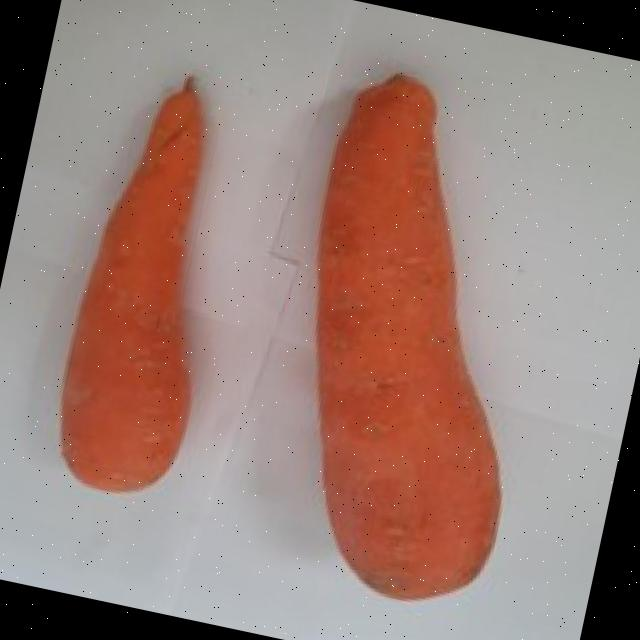carrot: (316, 74, 501, 599), (62, 76, 203, 490)
